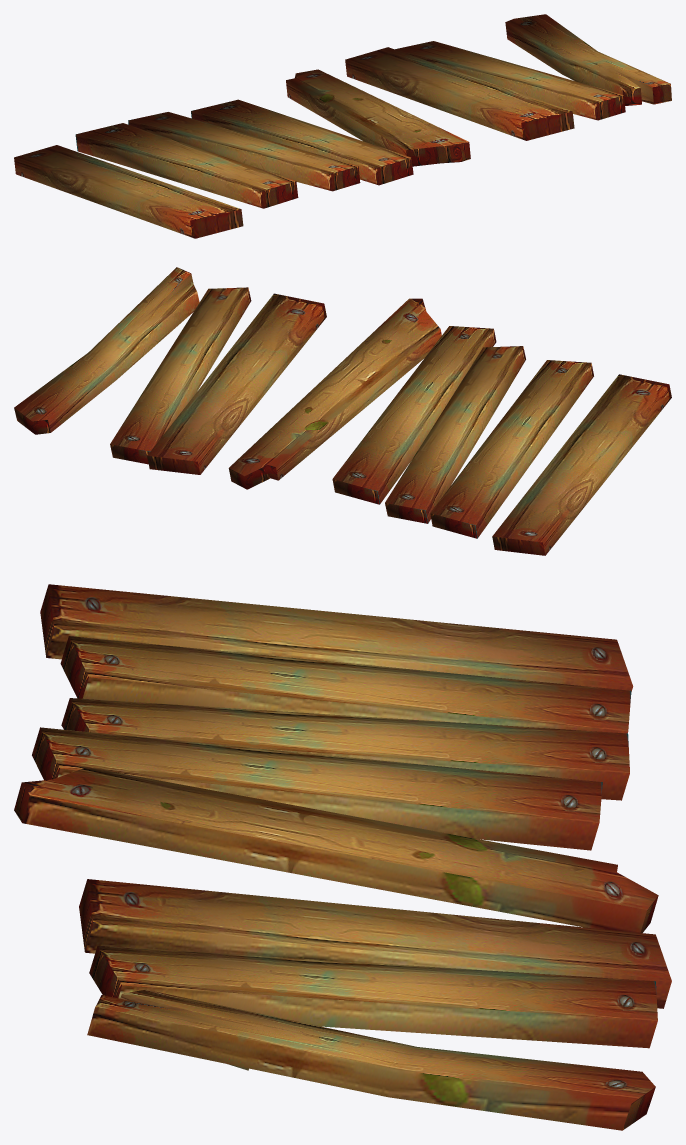
Rendered from muban04.FBX.
The picture shows the model from 3 angles, top to bottom: view 1: azimuth 30°, elevation 25°; view 2: azimuth 150°, elevation 25°; view 3: azimuth 270°, elevation 25°; orthographic projection. The views are drawn at different scales.
Visible parts, largest first — view 1: Object030; view 2: Object030; view 3: Object030.
Part boxes in pixels (x1,y1,x2,y2): Object030: (14, 14, 671, 238); Object030: (14, 267, 671, 555); Object030: (14, 584, 671, 1130).
Bounding box in the file's own units: 22340 × 3134 × 12884.
